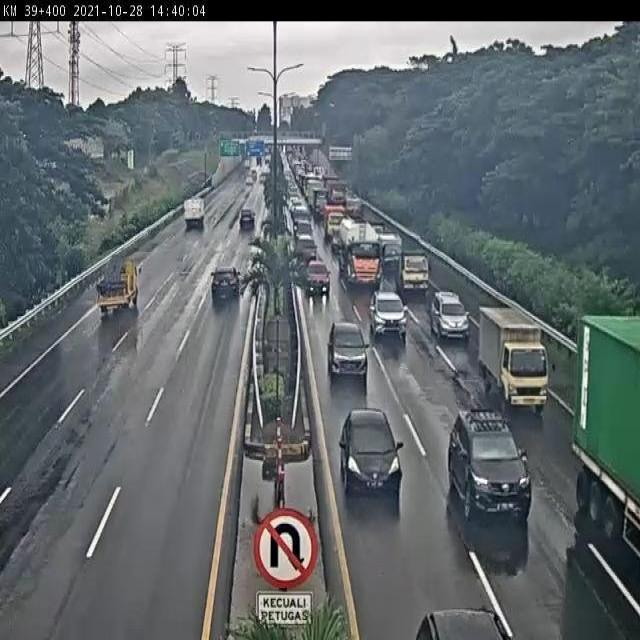big truck: (334, 209, 376, 280)
car: (449, 408, 531, 516), (340, 409, 406, 492), (325, 318, 370, 378), (426, 289, 465, 335), (368, 291, 405, 336), (210, 263, 241, 297), (306, 261, 332, 291)
mid truck: (237, 210, 254, 230)
small truck: (479, 308, 550, 409), (96, 257, 142, 316), (393, 247, 429, 293), (377, 232, 402, 267)
